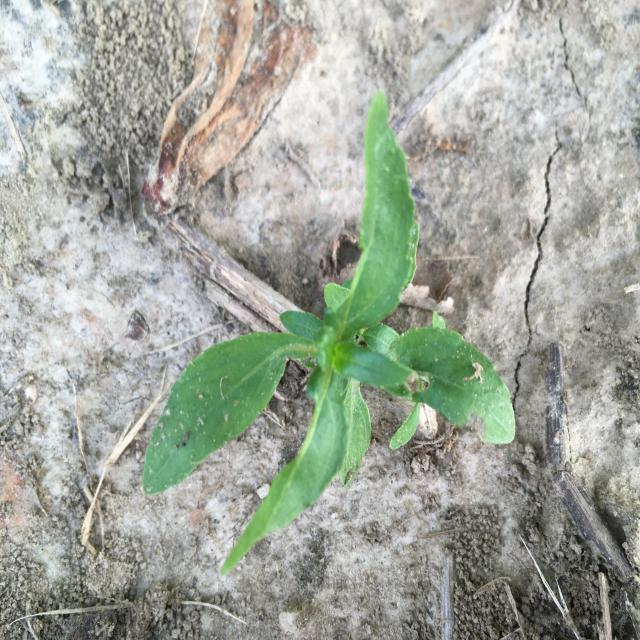Eclipta: (142, 89, 516, 575)
